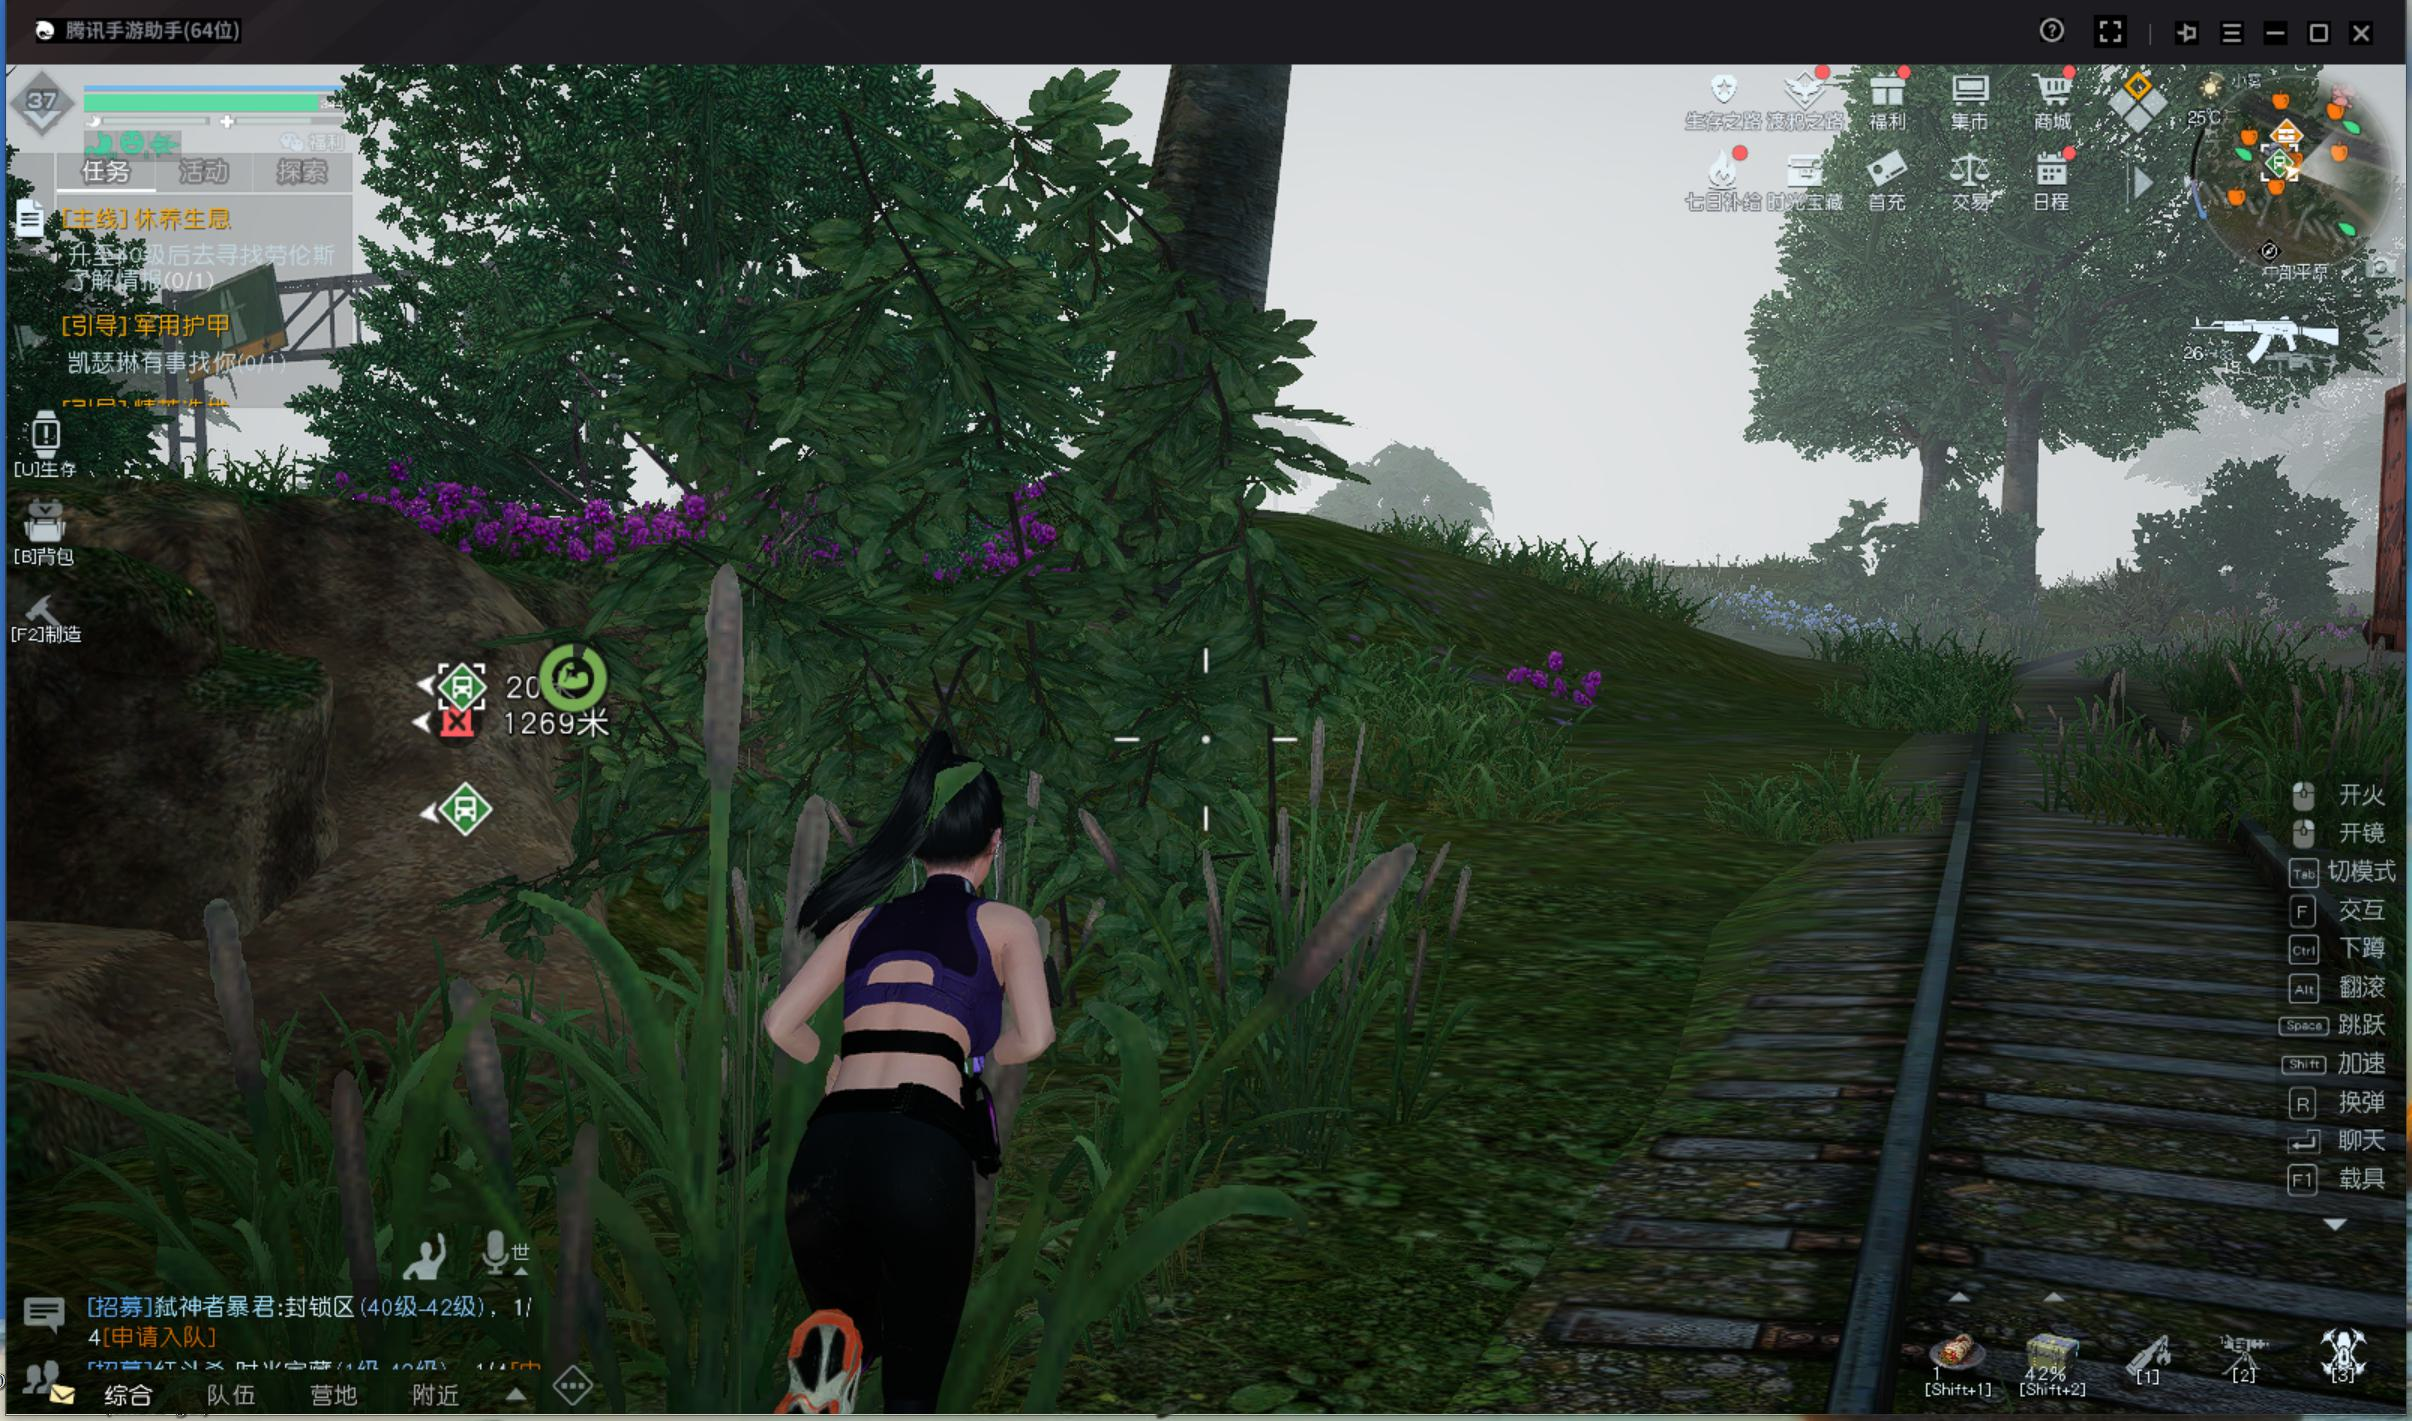tree: (1098, 117, 1307, 543), (1987, 420, 2057, 611), (1899, 458, 1964, 604)
